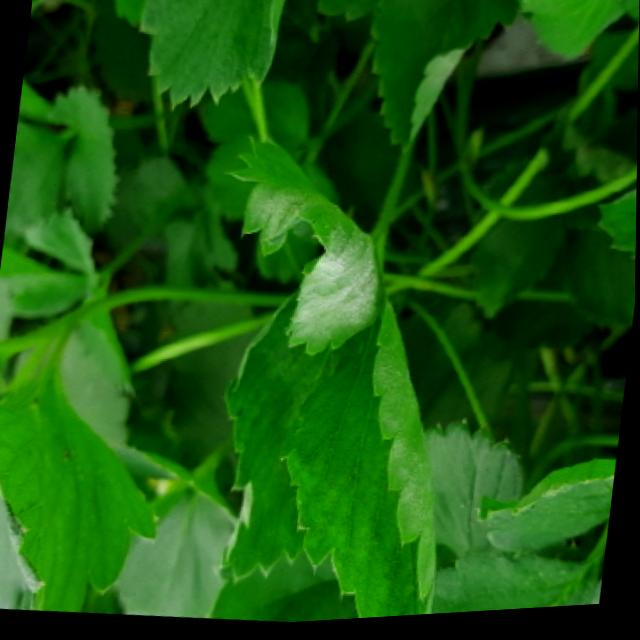Powdery Mildew Leaf: (282, 262, 440, 623), (221, 138, 379, 359), (368, 0, 520, 156)
